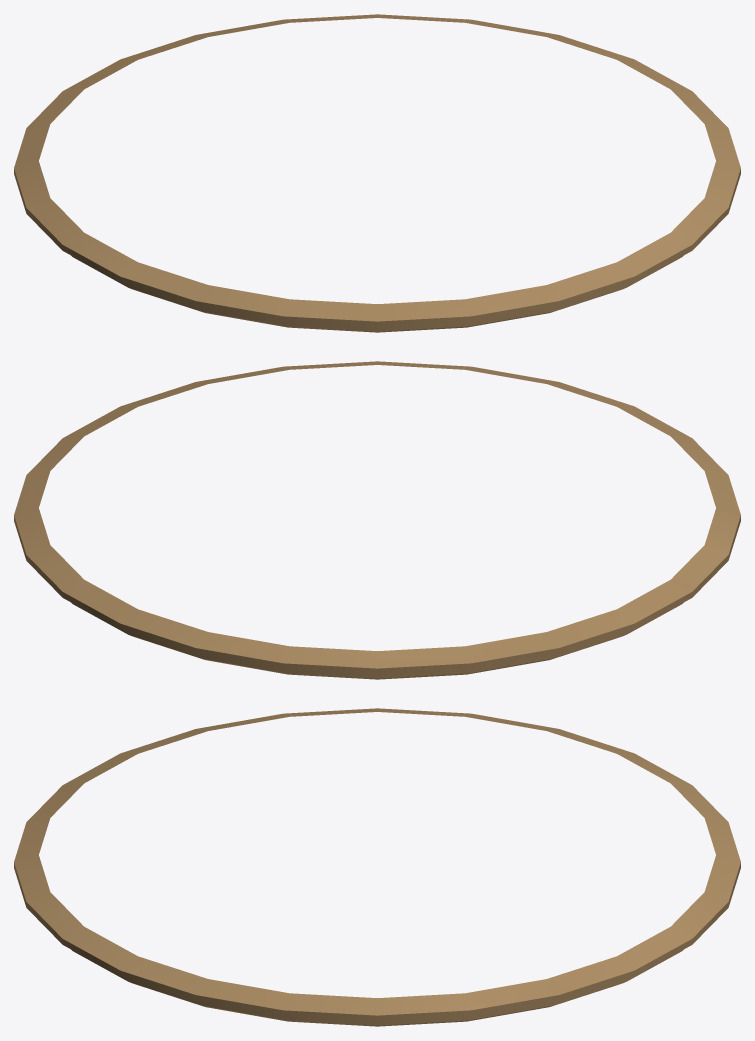
Rendered from dome.trim_top.sandstone.glb.
3 views of the same model, one above another, from view 1: azimuth 30°, elevation 25°; view 2: azimuth 150°, elevation 25°; view 3: azimuth 270°, elevation 25° (orthographic).
Parts seen in each view (by area): view 1: dome_trim_top_sandstone; view 2: dome_trim_top_sandstone; view 3: dome_trim_top_sandstone.
Boxes of the visible parts, bbox=[...] form: dome_trim_top_sandstone: bbox=[14, 14, 740, 332]; dome_trim_top_sandstone: bbox=[14, 361, 740, 679]; dome_trim_top_sandstone: bbox=[14, 708, 740, 1026].
Size of what is drawn, in the model's own units: 7.6 by 0.3 by 7.6.
